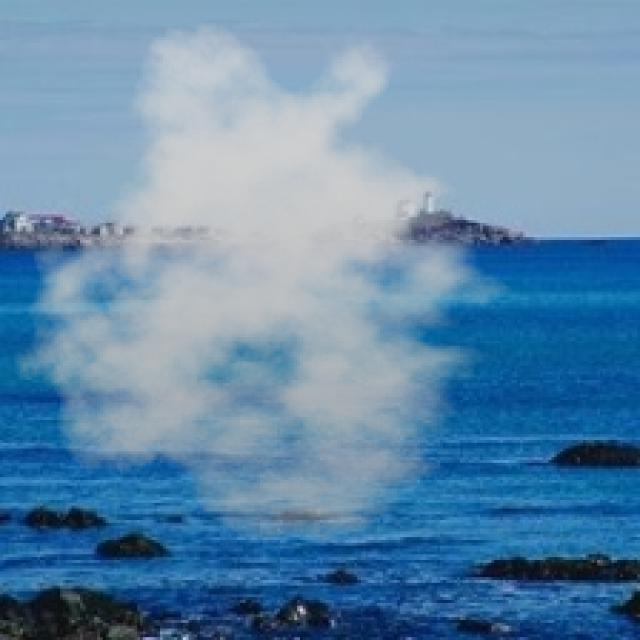smoke: (0, 20, 535, 544)
